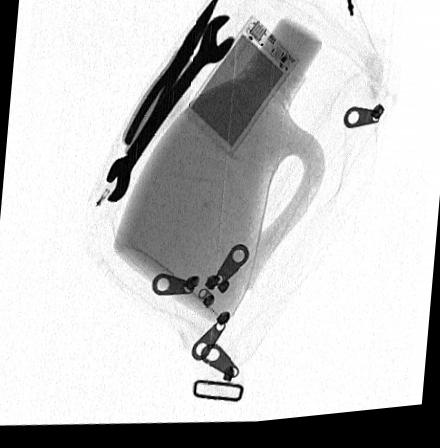Pliers: (120, 0, 218, 159)
Powerbank: (181, 21, 297, 161)
Wrench: (105, 19, 233, 206)
